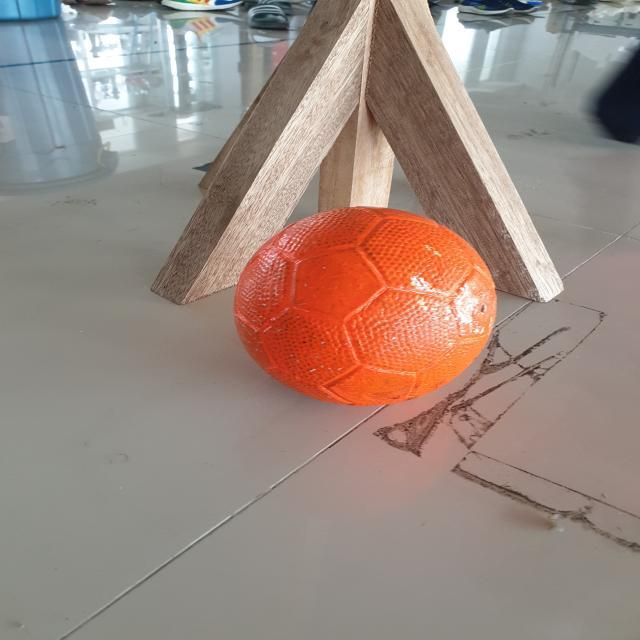bola: (225, 182, 519, 416)
